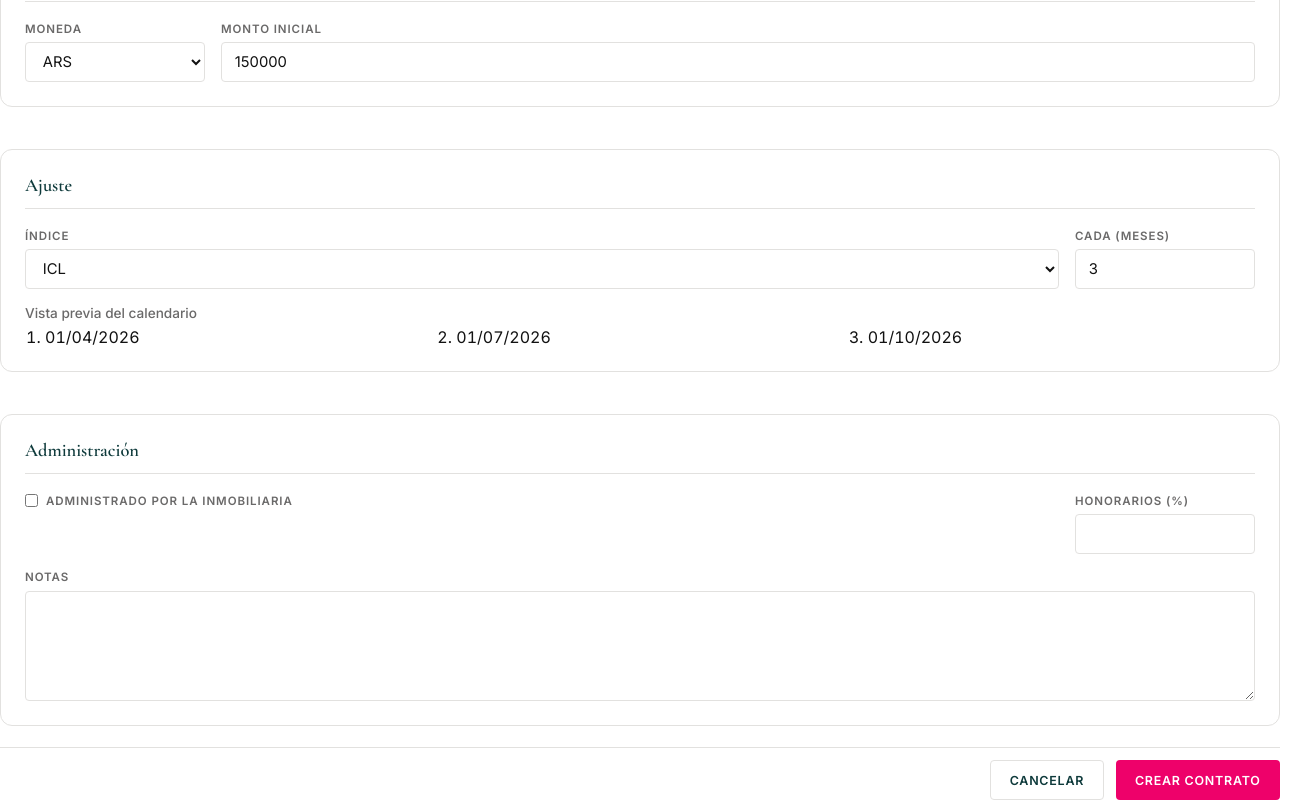
Test: muestra el detail del backend si guardar falla
The width and height of the screenshot is (1292, 800).
(page scrolled)
Step 1. Click the button "Crear contrato" → (1198, 780), box [1116,760,1280,799]
(page scrolled)
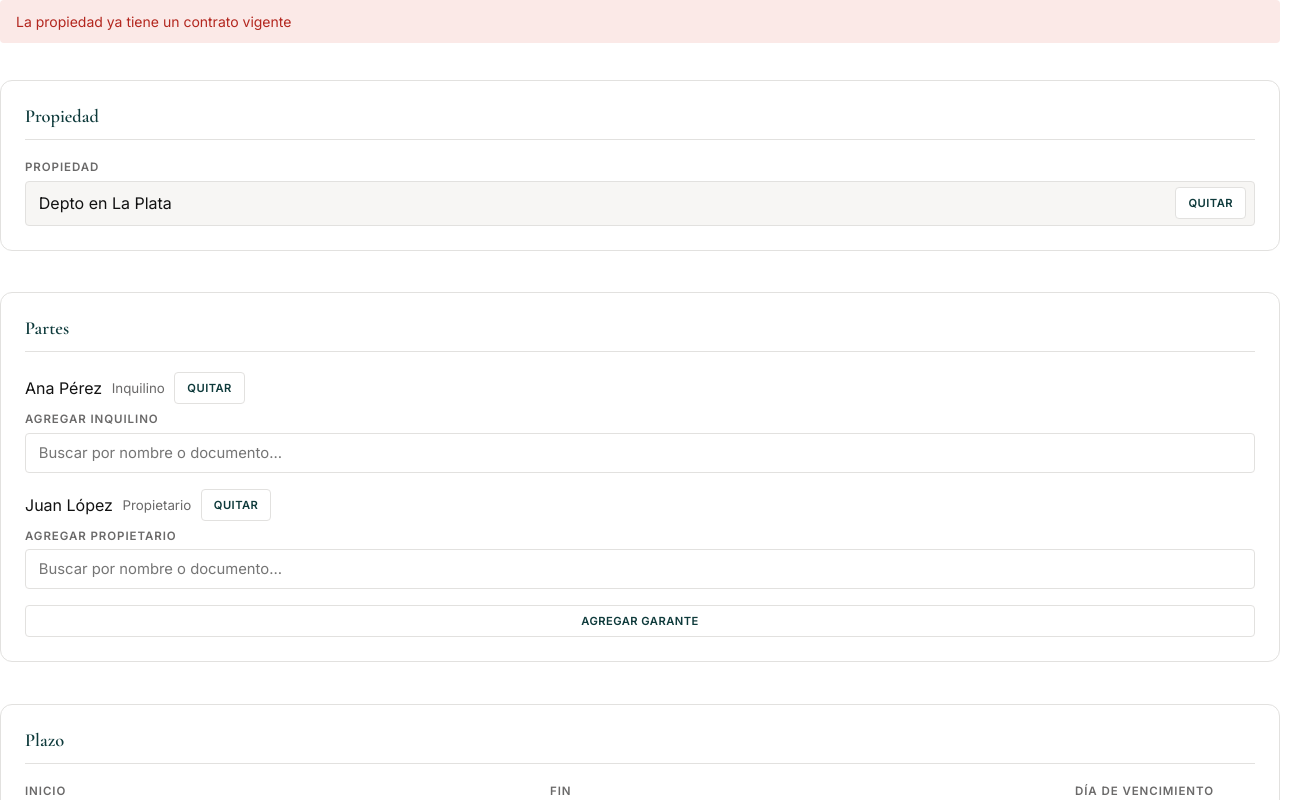
Expected: the message shows "ya tiene un contrato vigente", [16,13,291,30]
